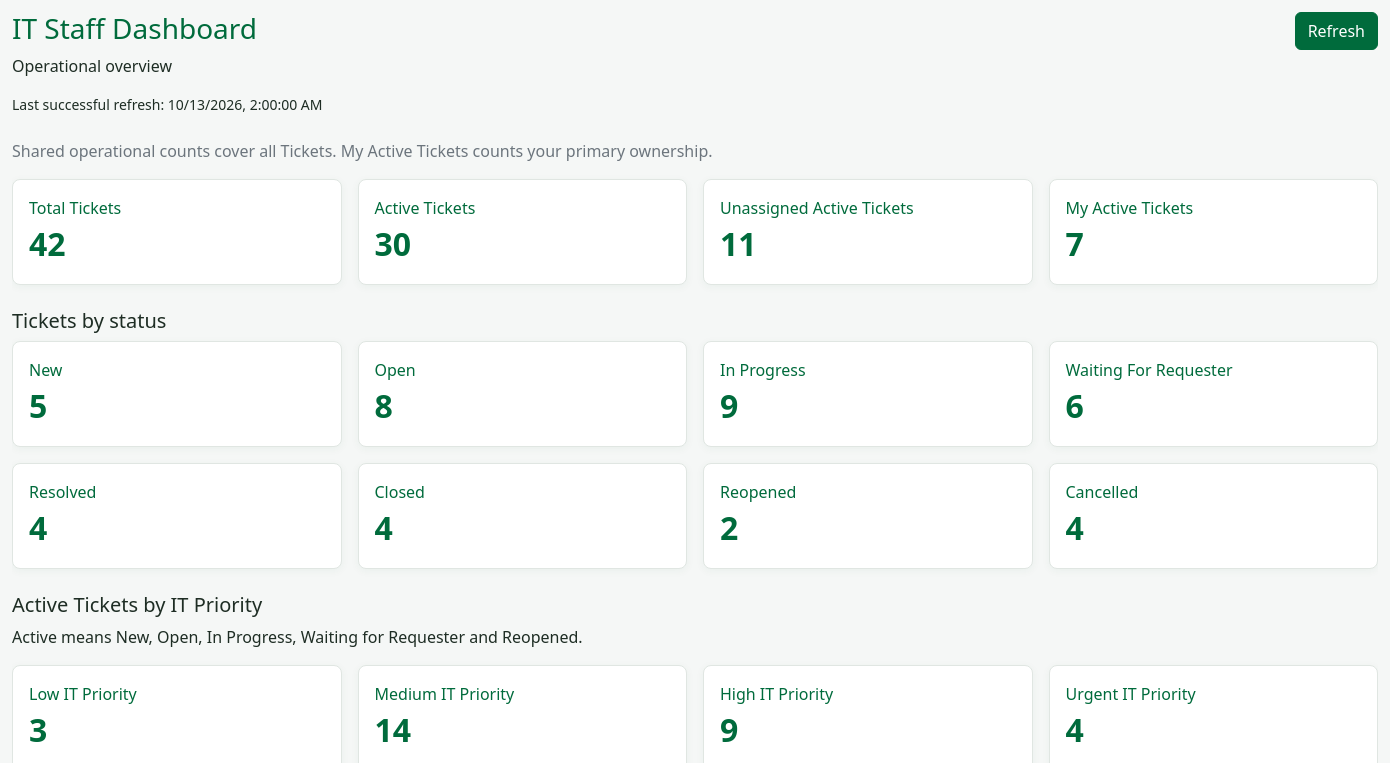
Test: failed refresh retains truthful prior data and timestamp; retry restores current results
The width and height of the screenshot is (1390, 763).
Check: the link "Total Tickets 42" is shown, box left=12, top=179, right=342, bottom=285
Click the button "Refresh": (1336, 31) left=1295, top=12, right=1378, bottom=50
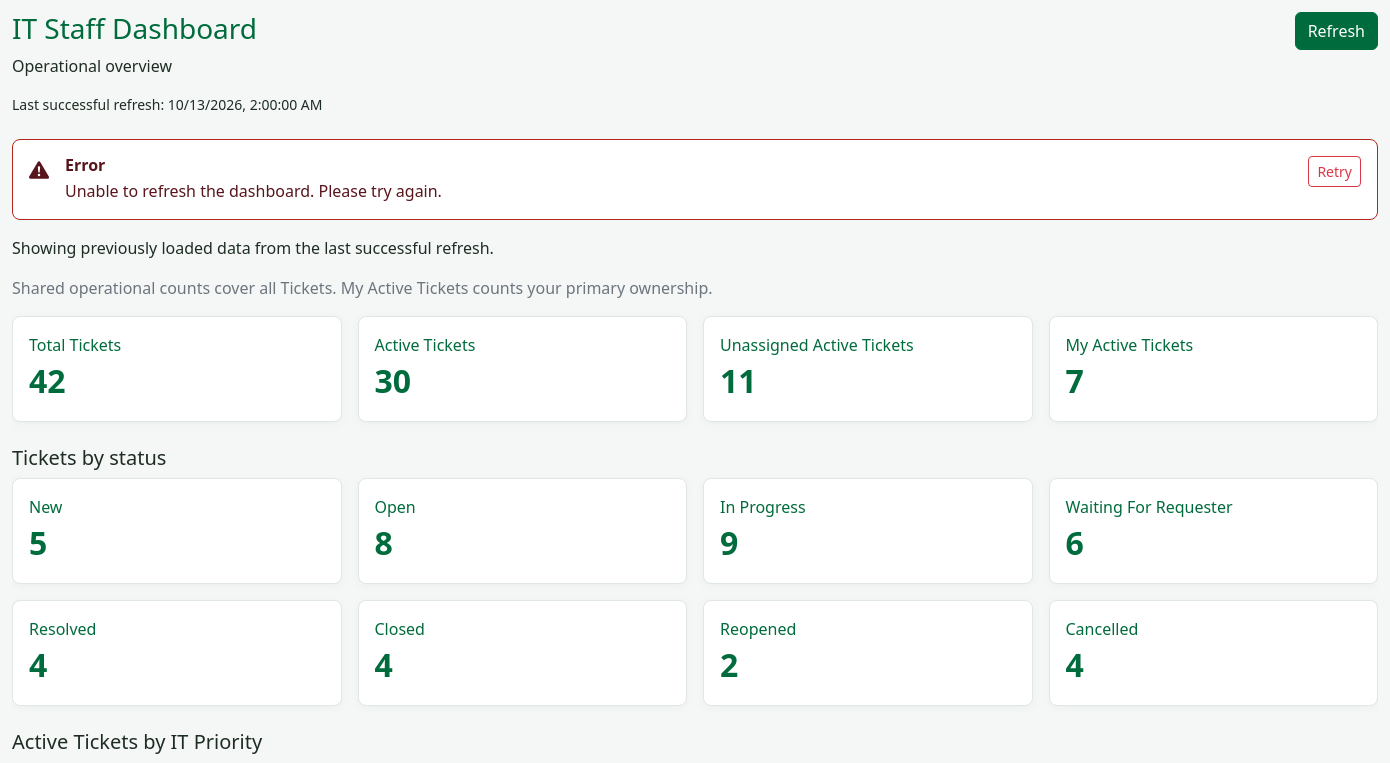
Check: the link "Total Tickets 42" is shown, box left=12, top=316, right=342, bottom=422
Check: the text "Showing previously loaded data from the last successful refresh." is shown, box left=12, top=237, right=494, bottom=259
Click the button with aria-label "Retry: Error": (1335, 171) left=1308, top=156, right=1361, bottom=187
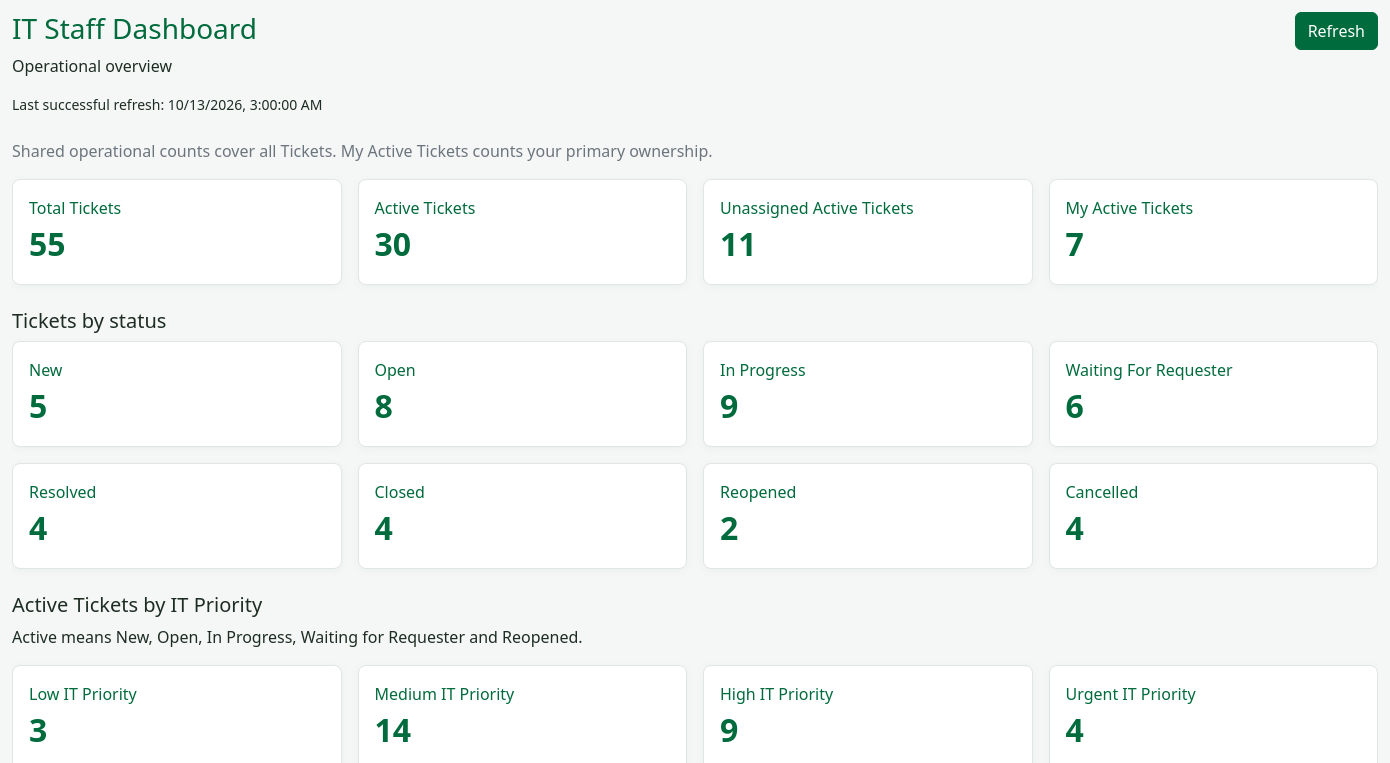
Check: the link "Total Tickets 55" is shown, box left=12, top=179, right=342, bottom=285
